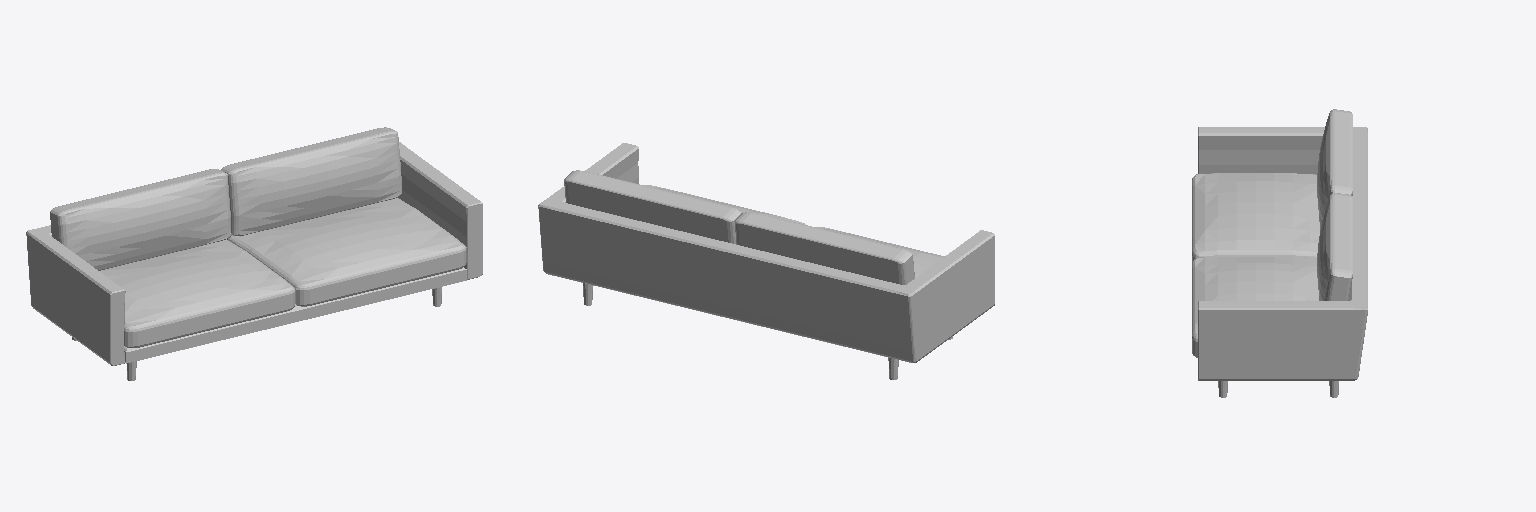
3 views of the same model, side by side, from view 1: azimuth 30°, elevation 25°; view 2: azimuth 150°, elevation 25°; view 3: azimuth 270°, elevation 25° (orthographic).
Parts seen in each view (by area): view 1: group_1, group_4, group_3, group_6, group_5; view 2: group_1, group_5, group_6, group_3; view 3: group_1, group_3, group_4, group_6, group_5.
Part boxes in pixels (bbox=[...]): group_1: bbox=[26, 142, 482, 365]; group_4: bbox=[227, 198, 466, 306]; group_3: bbox=[100, 239, 295, 347]; group_6: bbox=[221, 127, 401, 235]; group_5: bbox=[50, 169, 231, 270]; group_1: bbox=[538, 143, 994, 362]; group_5: bbox=[734, 212, 914, 284]; group_6: bbox=[564, 170, 741, 243]; group_3: bbox=[816, 227, 944, 277]; group_1: bbox=[1198, 127, 1367, 380]; group_3: bbox=[1192, 173, 1319, 261]; group_4: bbox=[1192, 257, 1318, 357]; group_6: bbox=[1317, 193, 1352, 300]; group_5: bbox=[1317, 109, 1352, 229].
Size of the model in its own units: 86.81 by 29.12 by 35.63.